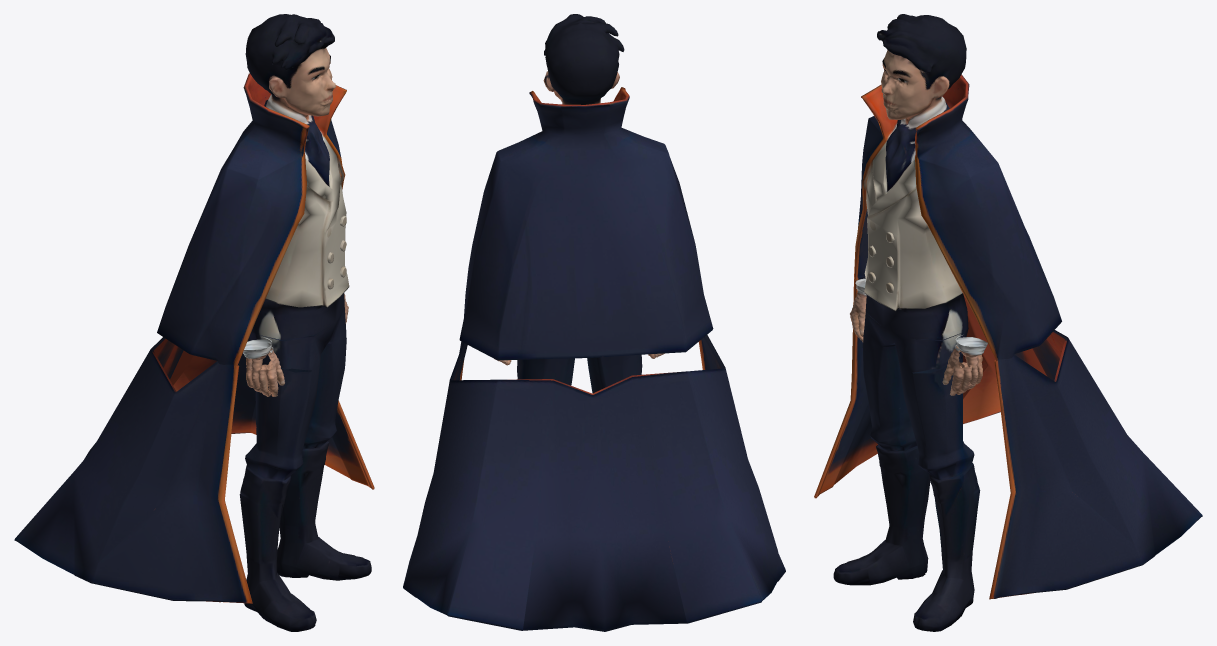
Rendered from king2-tripo.glb.
3 renders of one model, left to right at view 1: azimuth 30°, elevation 25°; view 2: azimuth 150°, elevation 25°; view 3: azimuth 270°, elevation 25°, orthographic. The views are drawn at different scales.
Parts seen in each view (by area): view 1: tripo_node_f86ceccf-4a80-4c9b-8277-387d6766e516; view 2: tripo_node_f86ceccf-4a80-4c9b-8277-387d6766e516; view 3: tripo_node_f86ceccf-4a80-4c9b-8277-387d6766e516.
Part boxes in pixels (box(x1,y1,x2,y2)): tripo_node_f86ceccf-4a80-4c9b-8277-387d6766e516: box(14, 14, 374, 631); tripo_node_f86ceccf-4a80-4c9b-8277-387d6766e516: box(403, 14, 785, 631); tripo_node_f86ceccf-4a80-4c9b-8277-387d6766e516: box(814, 14, 1202, 631).
Size of the model in its own units: 1.14 by 1.8 by 1.1.
Materials: 1 (1 with a texture image).
